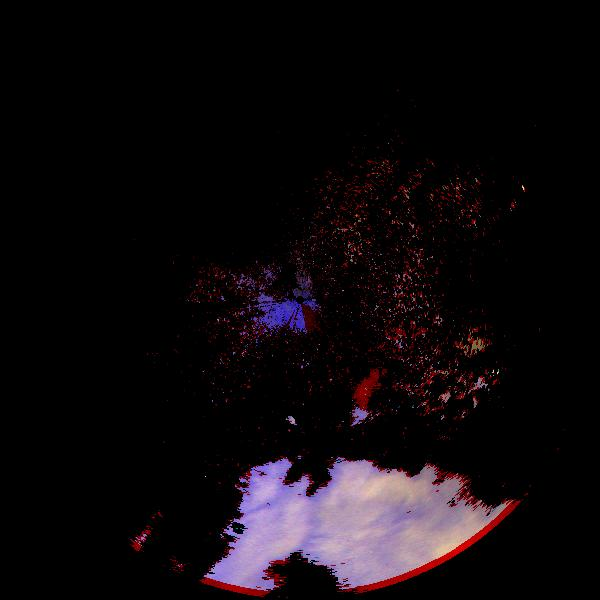roost: (282, 416, 297, 431)
